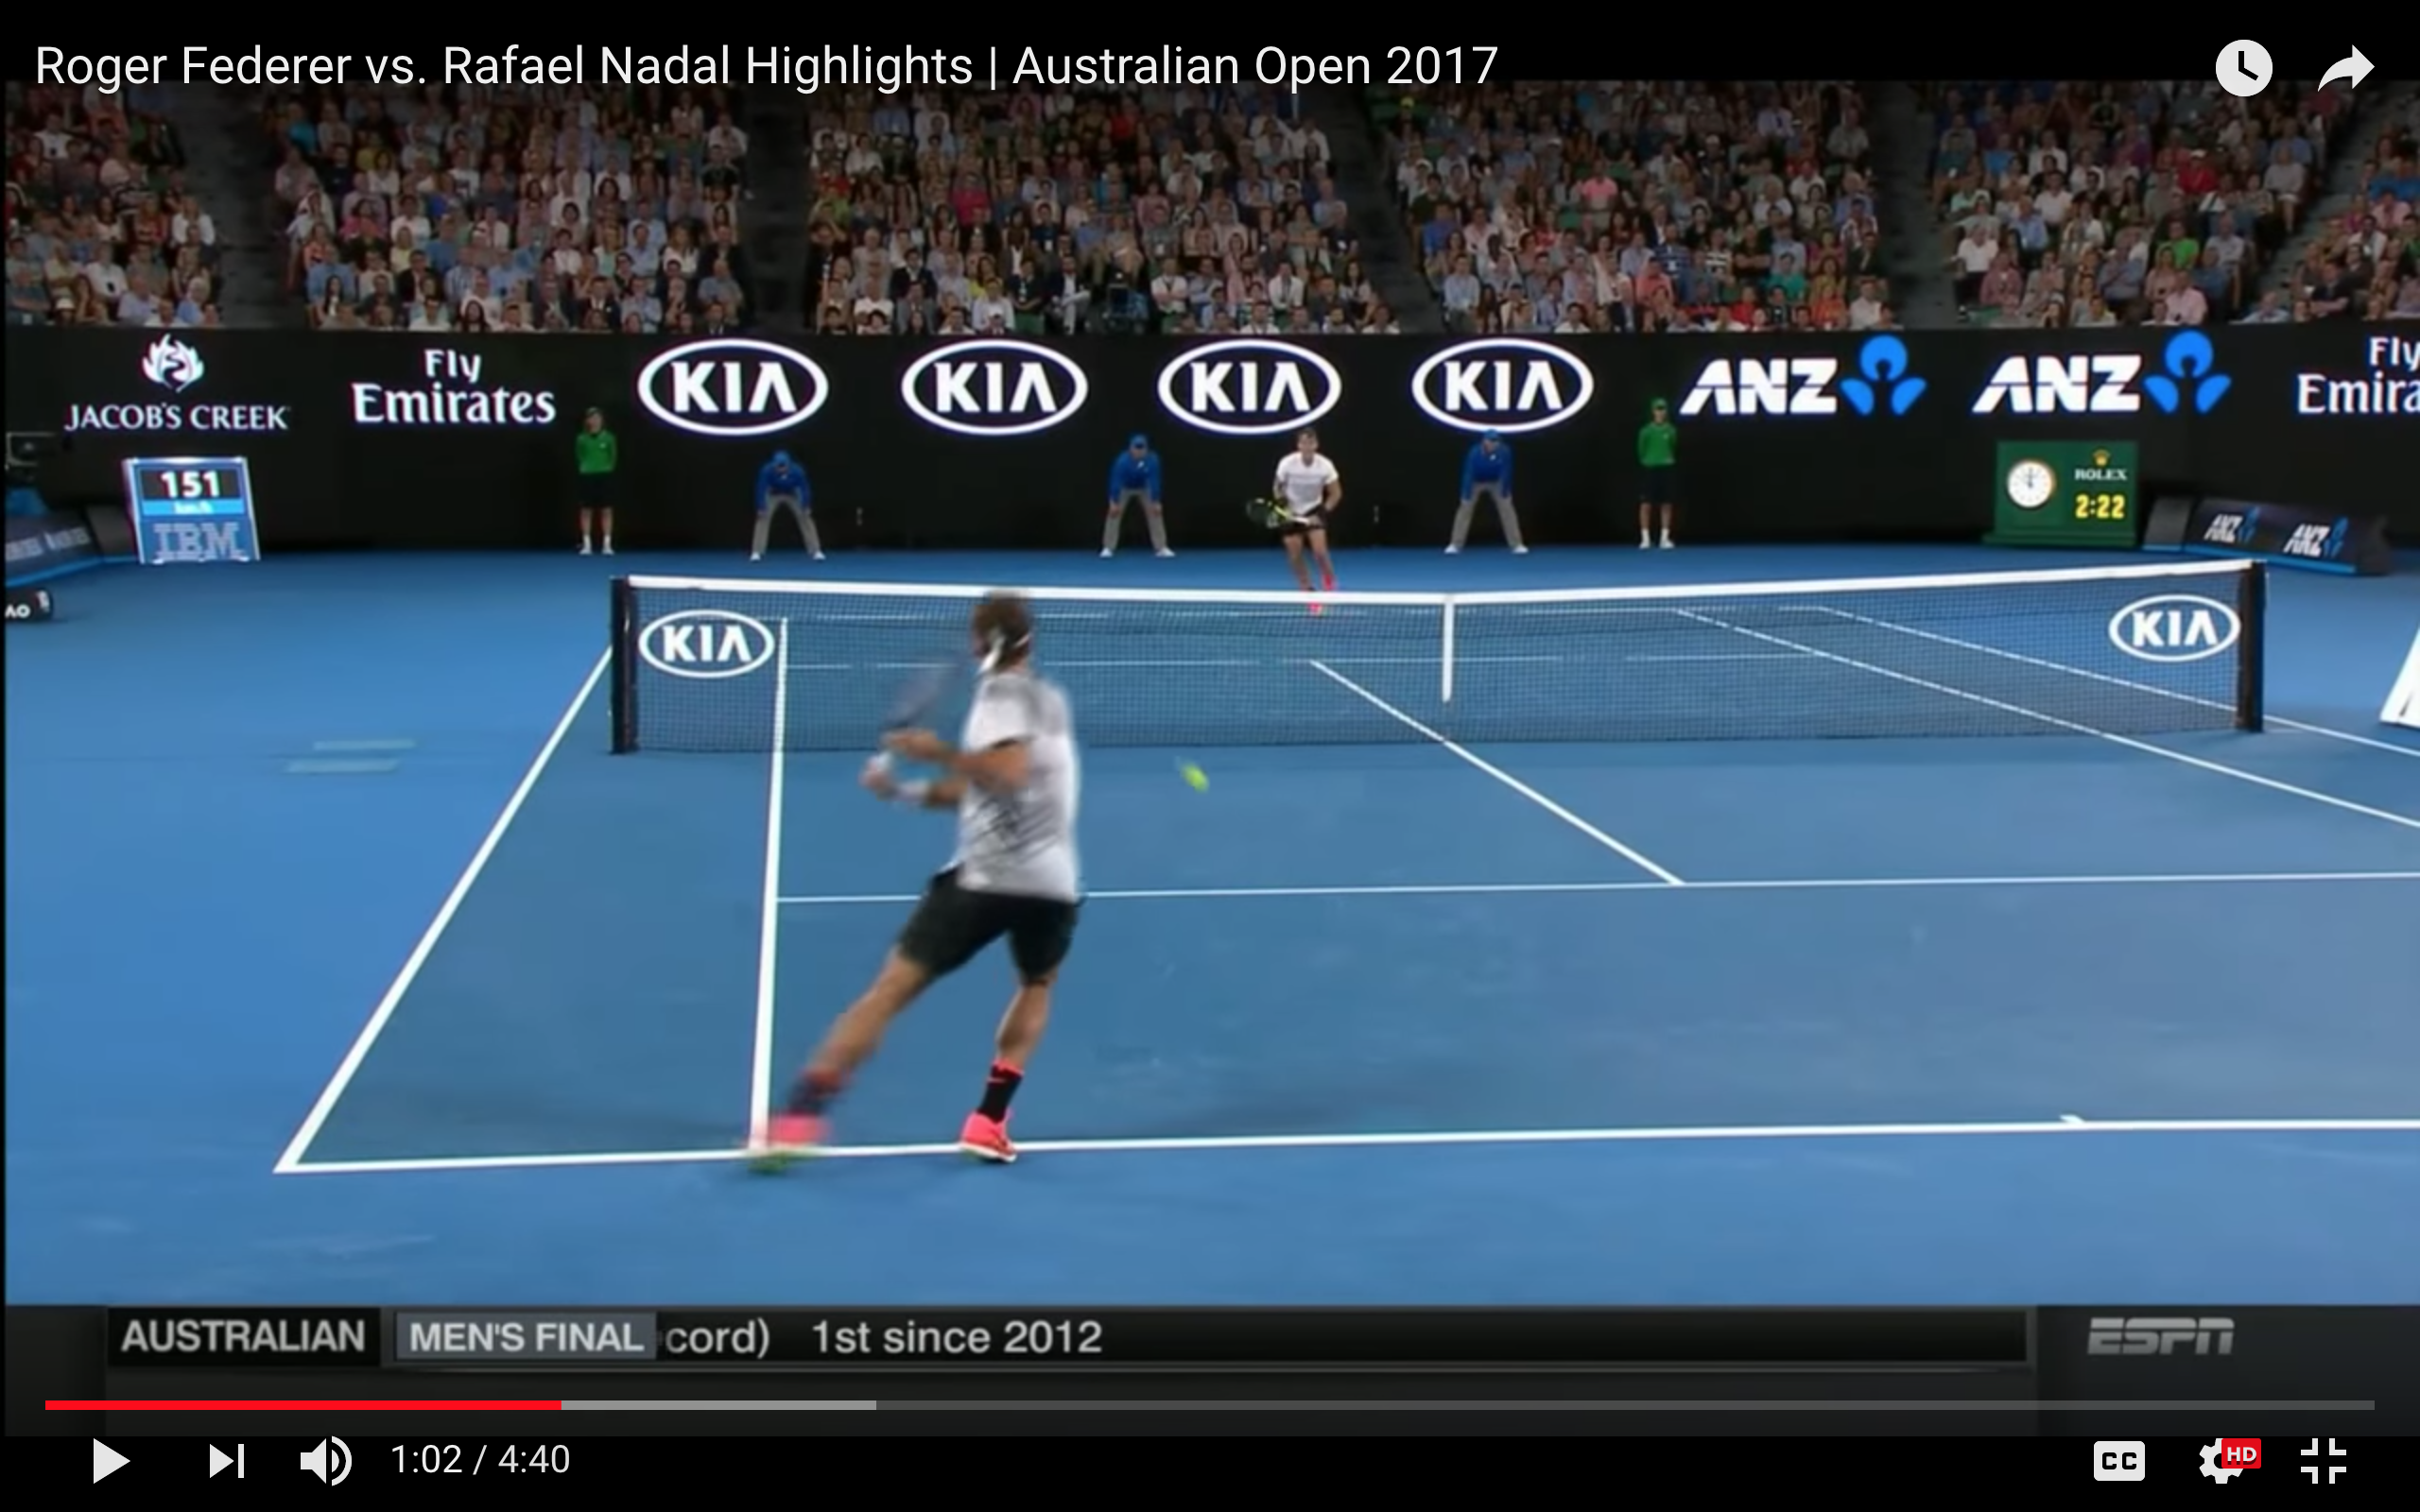tennis ball: (1176, 763, 1219, 799)
tennis player: (863, 593, 1084, 1172), (1240, 430, 1361, 593)
